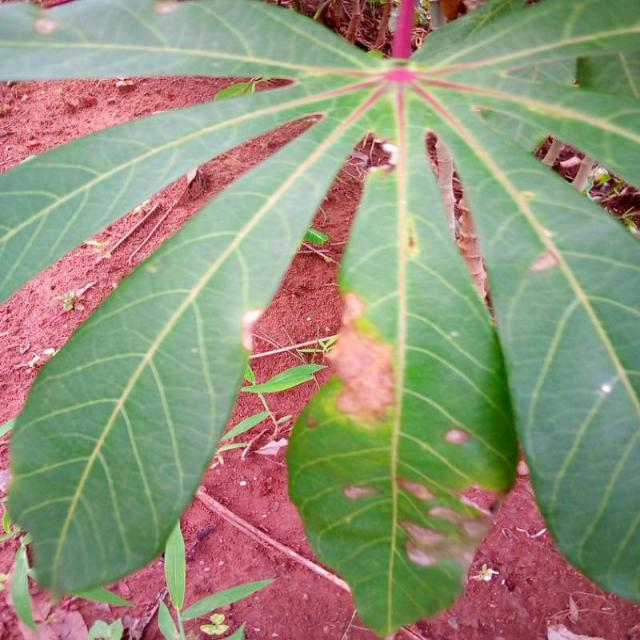cassava leaf: (1, 1, 638, 634), (5, 106, 366, 604), (285, 120, 519, 636)
